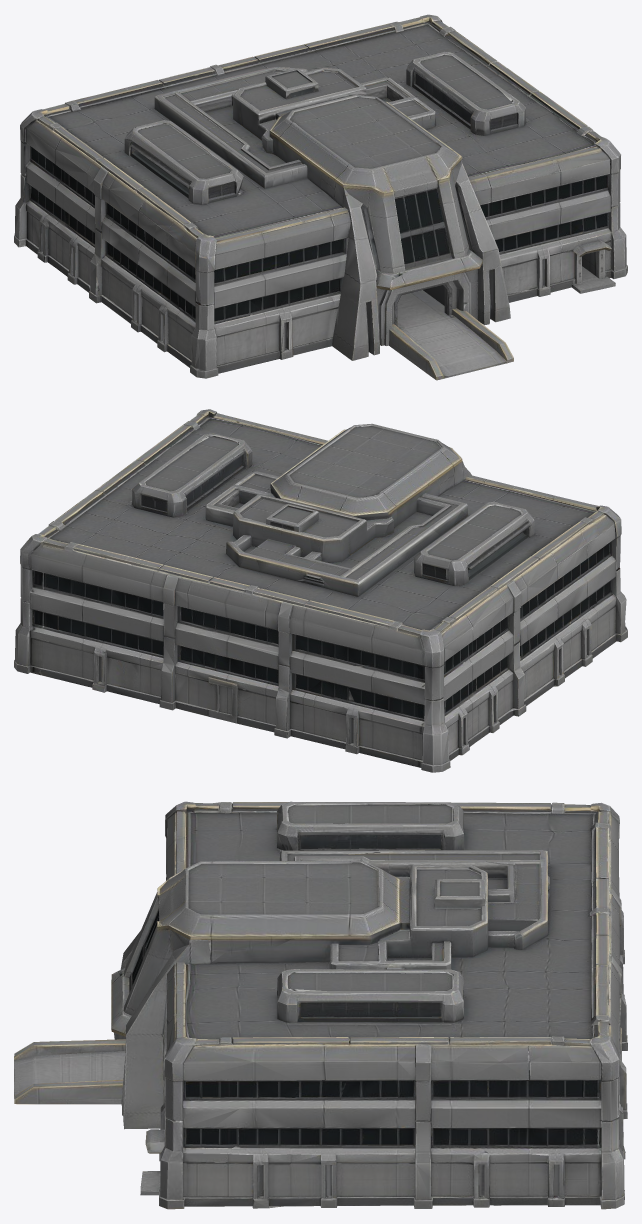
Rendered from imperial_gene_clinic_lod1.glb.
The picture shows the model from 3 angles, top to bottom: view 1: azimuth 30°, elevation 25°; view 2: azimuth 150°, elevation 25°; view 3: azimuth 270°, elevation 25°; orthographic projection. The views are drawn at different scales.
Parts seen in each view (by area): view 1: mesh_node; view 2: mesh_node; view 3: mesh_node.
Part boxes in pixels (left/top/right/bottom): mesh_node: left=14, top=14, right=627, bottom=380; mesh_node: left=14, top=409, right=627, bottom=772; mesh_node: left=14, top=801, right=627, bottom=1209.
Size of the model in its own units: 23.71 by 8.32 by 23.96.
Materials: 1 (1 with a texture image).
